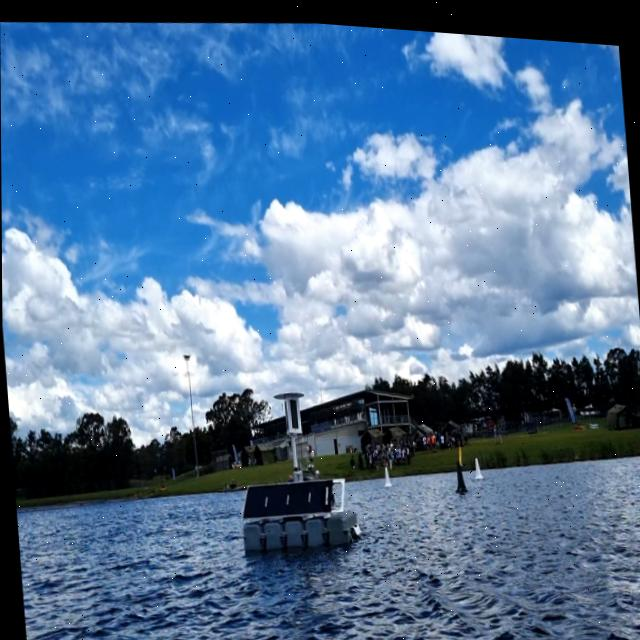led: (286, 391, 299, 427)
